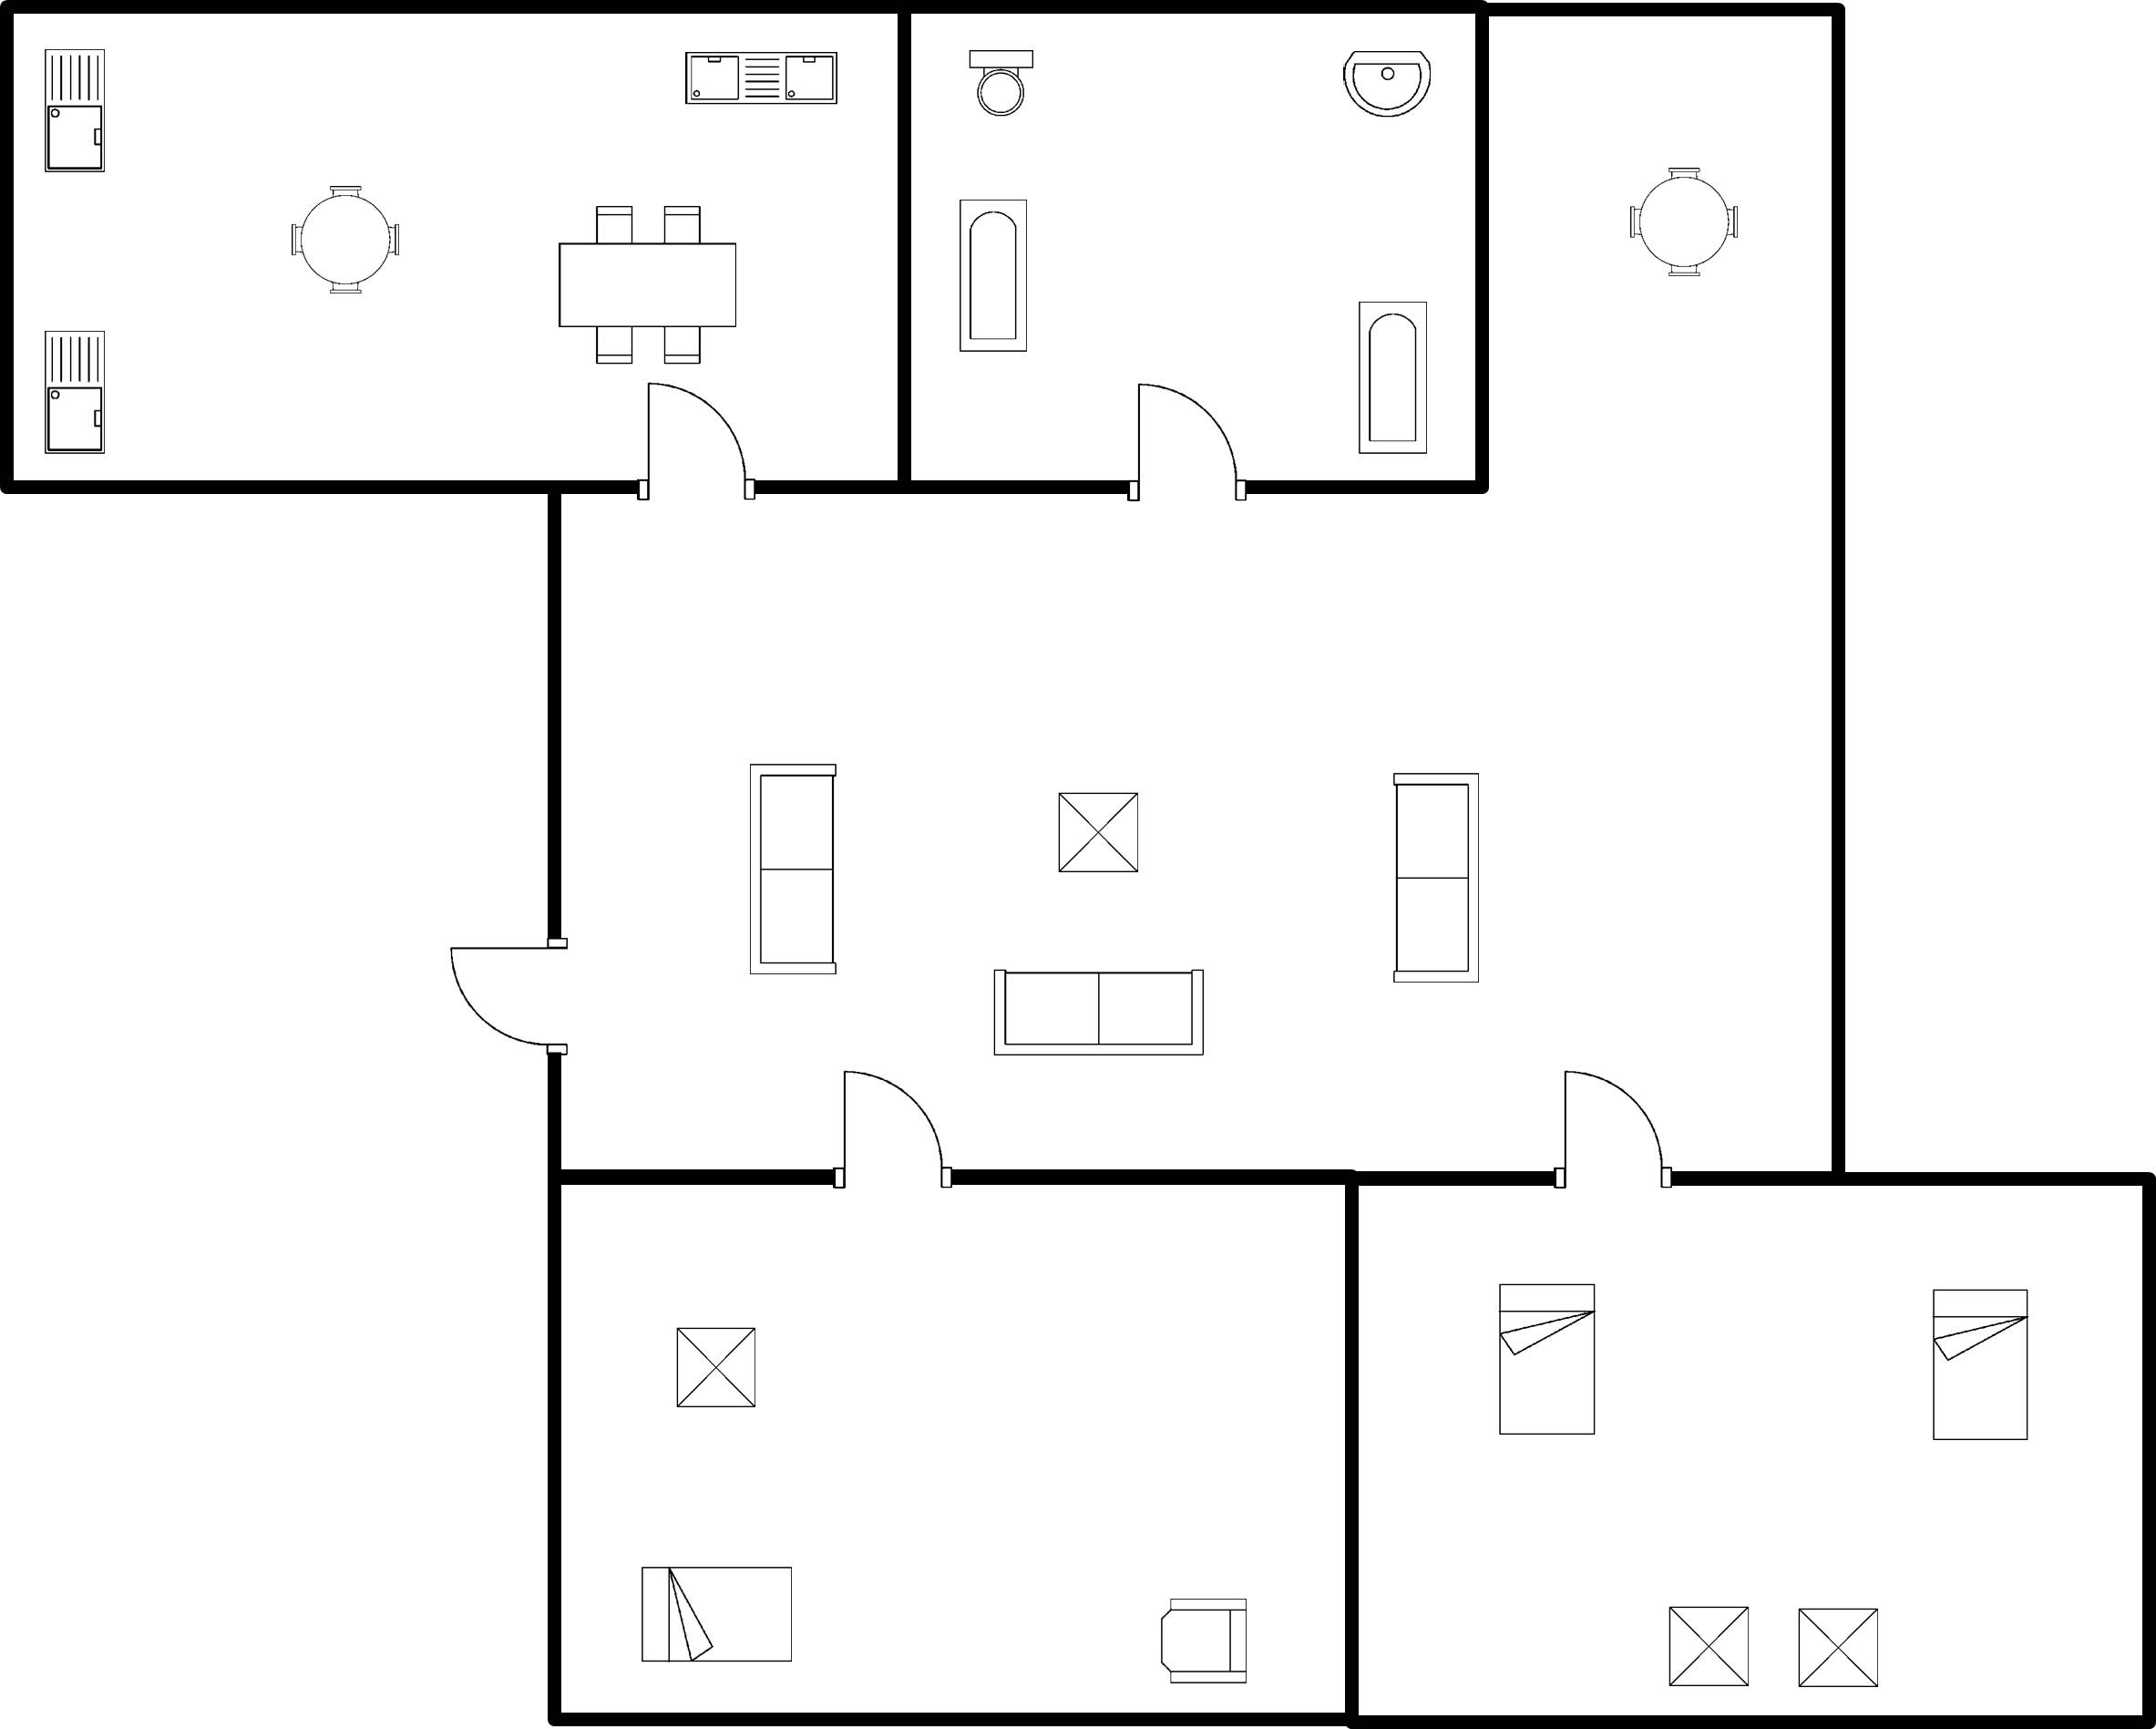armchair: (1144, 1582, 1260, 1699)
bed: (1485, 1272, 1610, 1449), (631, 1552, 810, 1675), (1920, 1275, 2042, 1451)
coffee_table: (663, 1316, 771, 1424), (1657, 1596, 1761, 1701), (1783, 1593, 1886, 1697), (1048, 783, 1151, 884)
dining_table: (549, 190, 744, 377)
large_sink: (950, 38, 1048, 126)
large_sofa: (1377, 761, 1492, 995), (737, 747, 848, 989), (979, 956, 1218, 1068)
round_table: (275, 173, 415, 310), (1617, 155, 1755, 288)
sink: (34, 322, 123, 466), (34, 36, 119, 185)
small_sink: (1328, 38, 1446, 124)
tub: (1340, 288, 1444, 462), (945, 189, 1036, 364)
twin_sink: (677, 38, 850, 118)
